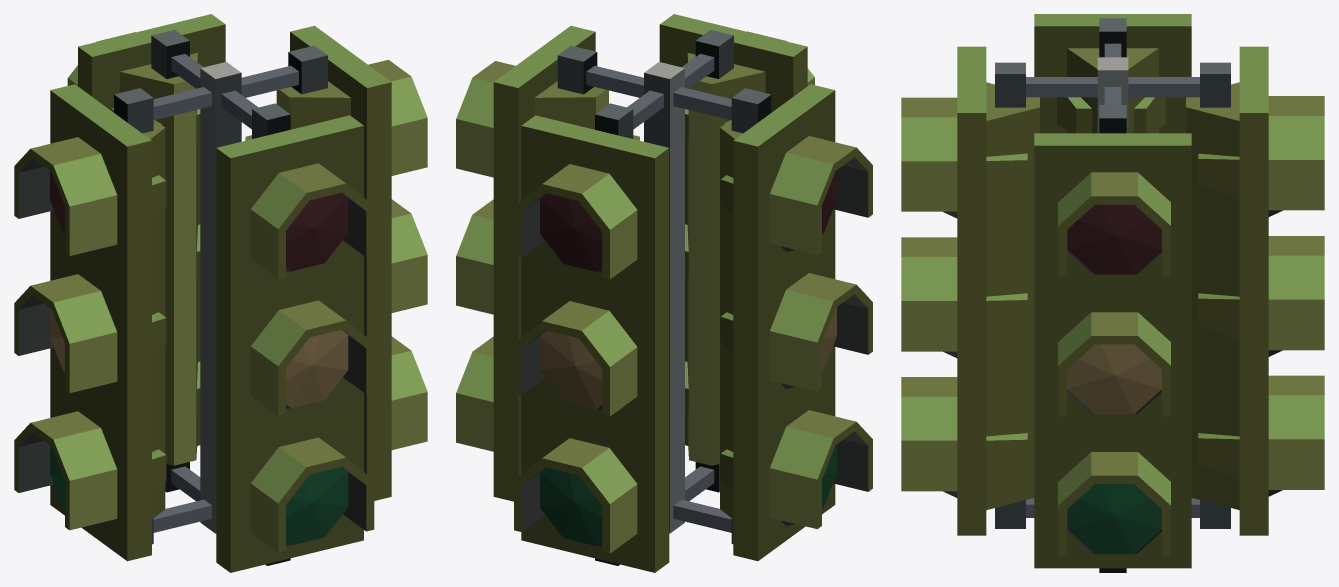
Rendered from TB_CITY_Prop_TrafficLight_4_Green.FBX.
The picture shows the model from 3 angles, left to right: view 1: azimuth 30°, elevation 25°; view 2: azimuth 150°, elevation 25°; view 3: azimuth 270°, elevation 25°; orthographic projection.
Parts seen in each view (by area): view 1: TB_CITY_Prop_TrafficLight_4_Green; view 2: TB_CITY_Prop_TrafficLight_4_Green; view 3: TB_CITY_Prop_TrafficLight_4_Green.
Boxes of the visible parts, left/top/right/bottom form: TB_CITY_Prop_TrafficLight_4_Green: left=14, top=14, right=427, bottom=572; TB_CITY_Prop_TrafficLight_4_Green: left=456, top=14, right=872, bottom=572; TB_CITY_Prop_TrafficLight_4_Green: left=901, top=14, right=1324, bottom=572.
Size of the model in its own units: 2.76 by 3.33 by 2.76.
